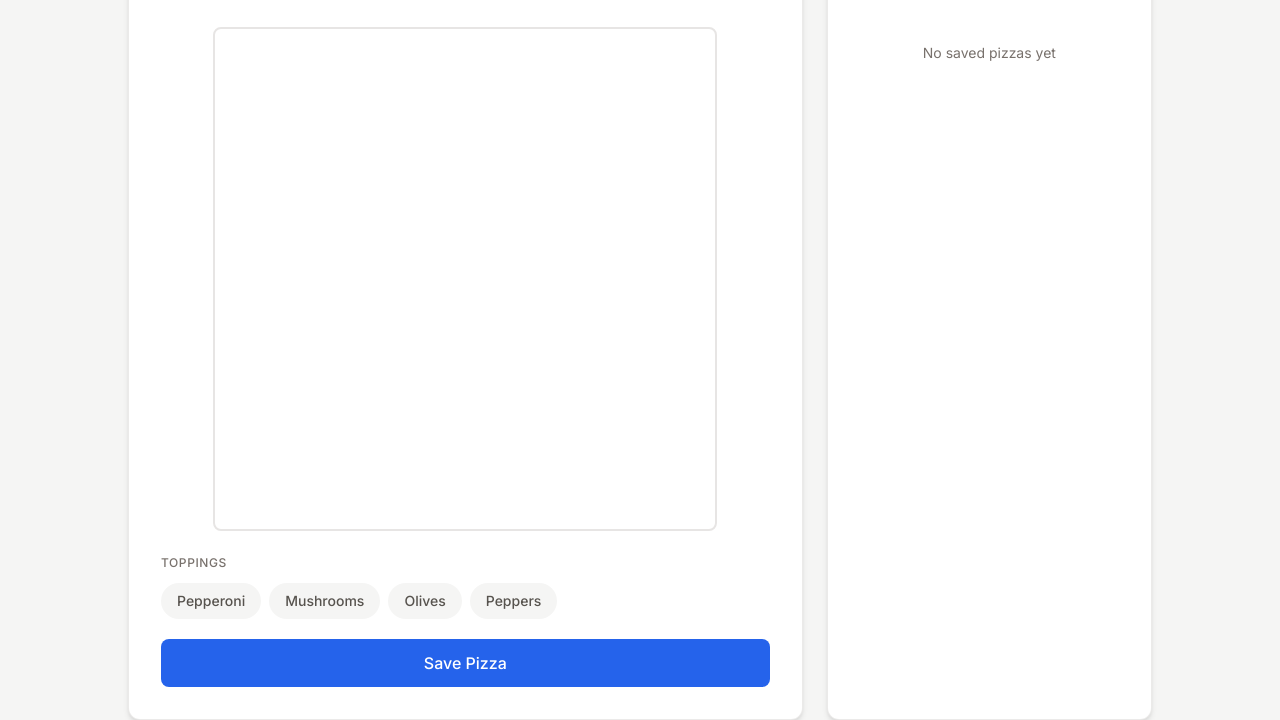
PizzaCanvas › shows save dialog when Save Pizza is clicked
(page scrolled)
What coordinates should you click on to do the following:
click the button "Save Pizza"
I would click on:
 (465, 663)
Its box is [161,639,770,687].
(page scrolled)
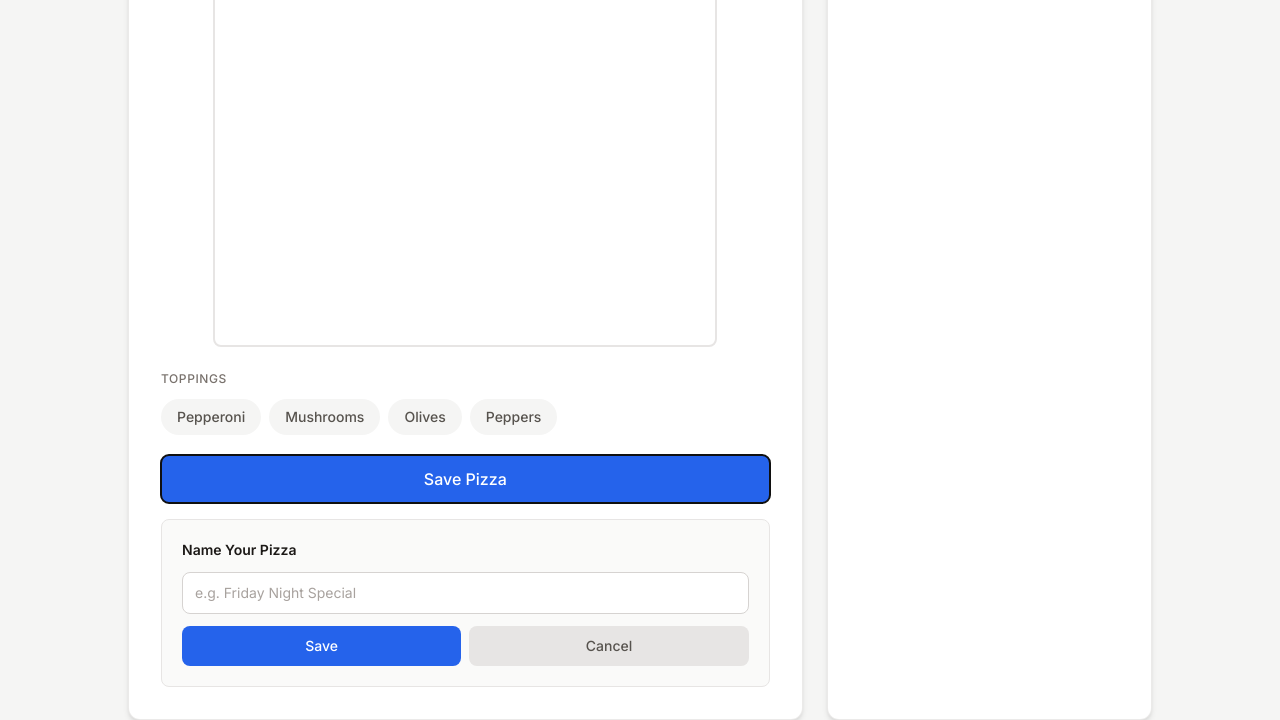
Expected: the heading "Name Your Pizza" is shown, [182,541,296,558]
Expected: the field with placeholder "e.g. Friday Night Special" is shown, [182,572,749,614]
